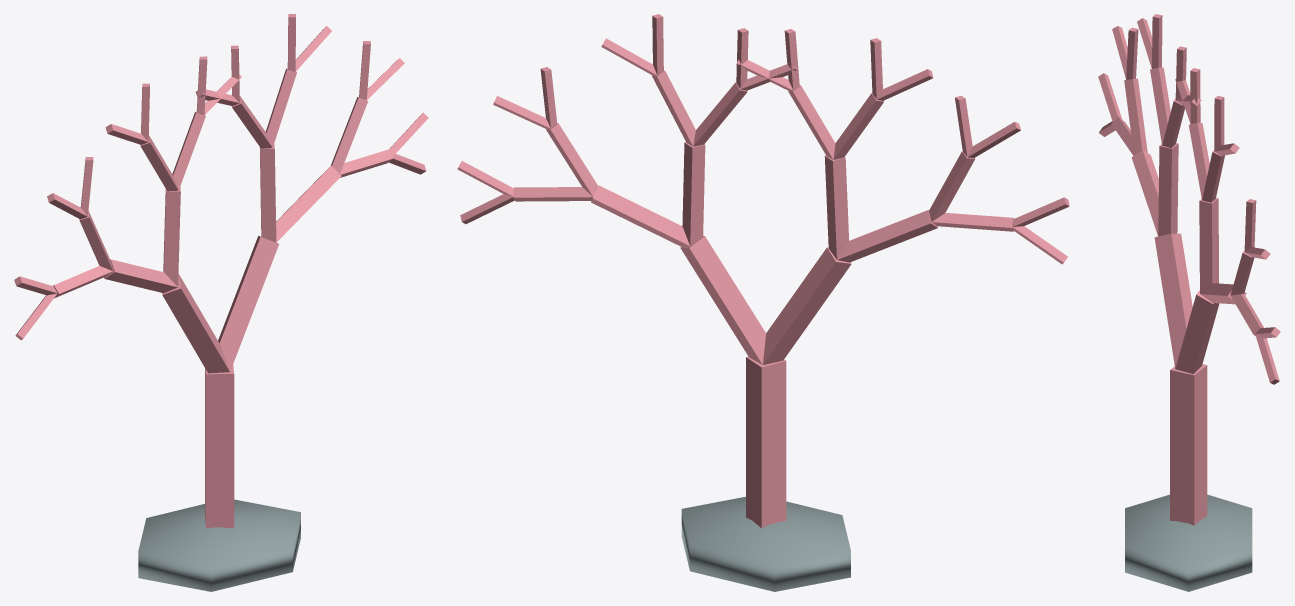
Rendered from sunken-city-and-underwater-ruins-sea-fan-babde4e3__36985.glb.
3 views of the same model, side by side, from view 1: azimuth 30°, elevation 25°; view 2: azimuth 150°, elevation 25°; view 3: azimuth 270°, elevation 25° (orthographic). The views are drawn at different scales.
Parts seen in each view (by area): view 1: sea-fan; view 2: sea-fan; view 3: sea-fan.
Part boxes in pixels (x1,y1,x2,y2): sea-fan: [14, 14, 428, 591]; sea-fan: [457, 14, 1069, 591]; sea-fan: [1098, 14, 1280, 591].
Bounding box in the file's own units: 1.59 × 1.59 × 0.5174.
